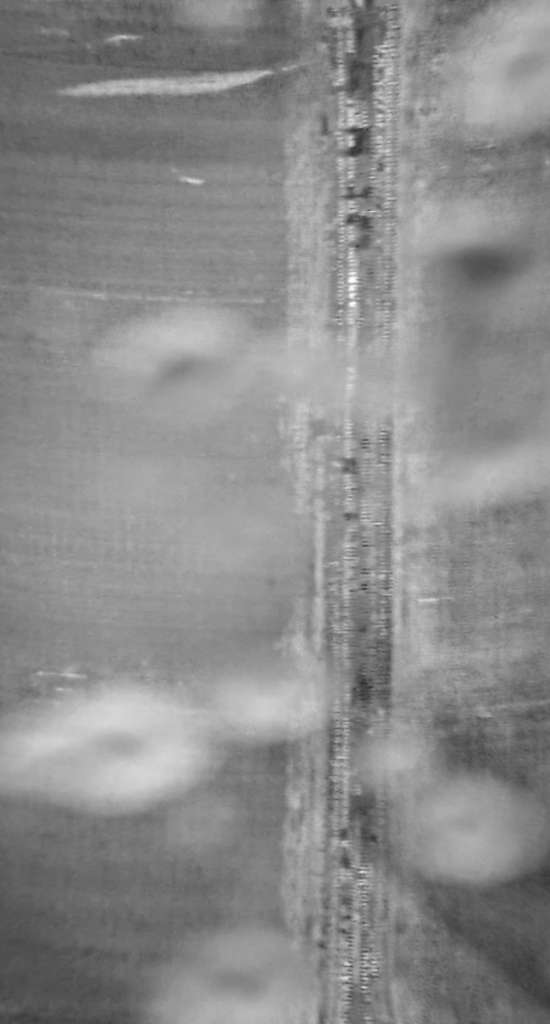splice: (314, 1, 398, 1024)
